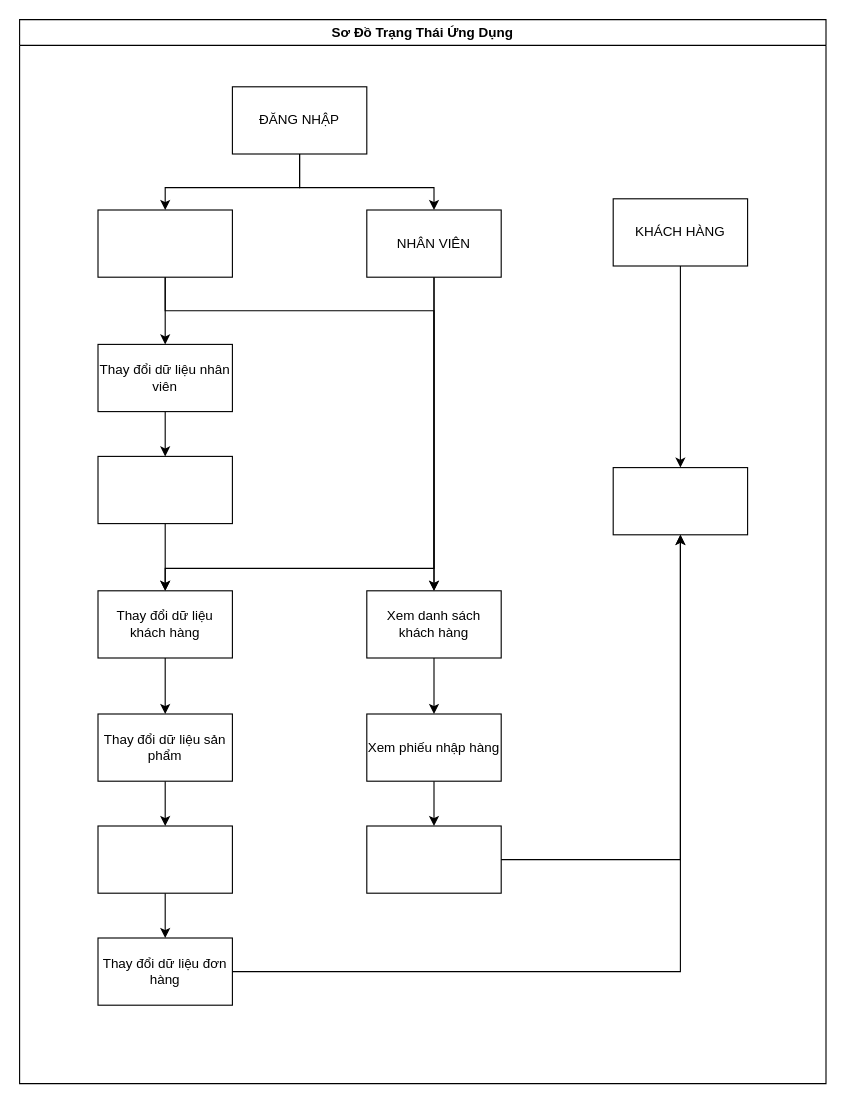
The diagram is 846 pixels wide and 1103 high, and some of its shapes have lost their labels. Here are the shapes that lost their labels. From the top down, the centre of each, then its label:
point (164, 243): QUẢN LÍ
point (164, 489): Xem danh sách nhân viên
point (680, 500): XEM SẢN PHẨM
point (164, 859): Thay đổi dữ liệu phiếu nhập hàng
point (433, 859): Xem danh sách đơn hàng
